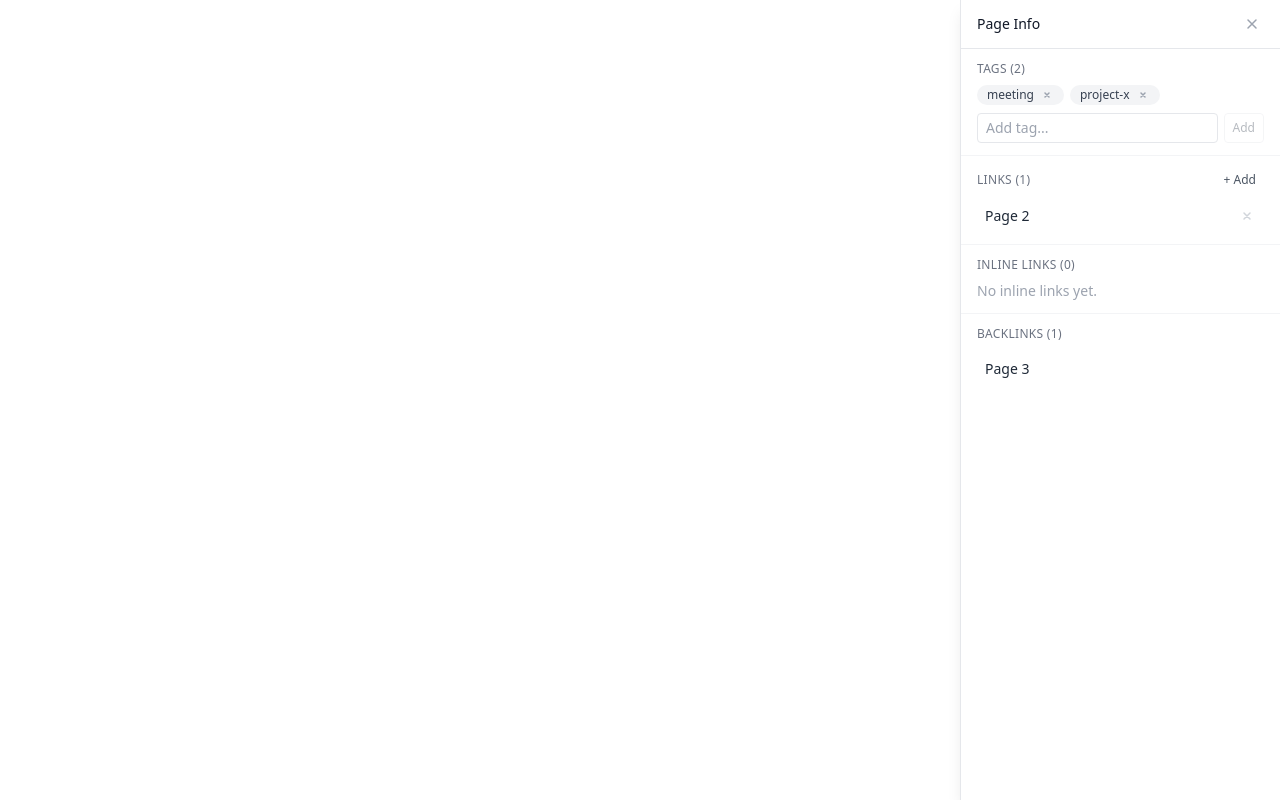
PageLinksPanel › closes add modal after saving
The width and height of the screenshot is (1280, 800).
Click the button with test id "add-link-button" at point(1240, 180), box [1216,168,1264,192]
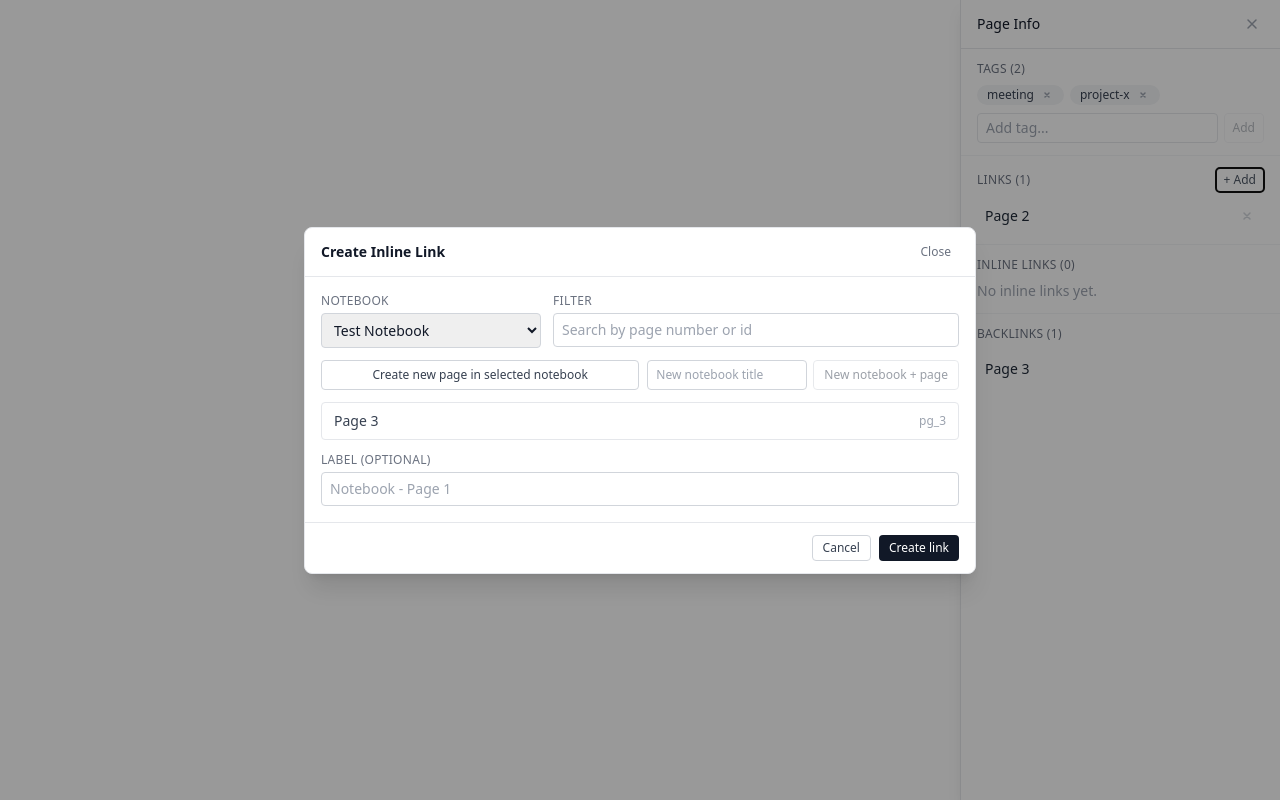
Check: the element with test id "inline-link-editor-backdrop" is shown
Click the button with test id "inline-link-create-page" at point(480, 374), box [321,360,639,390]
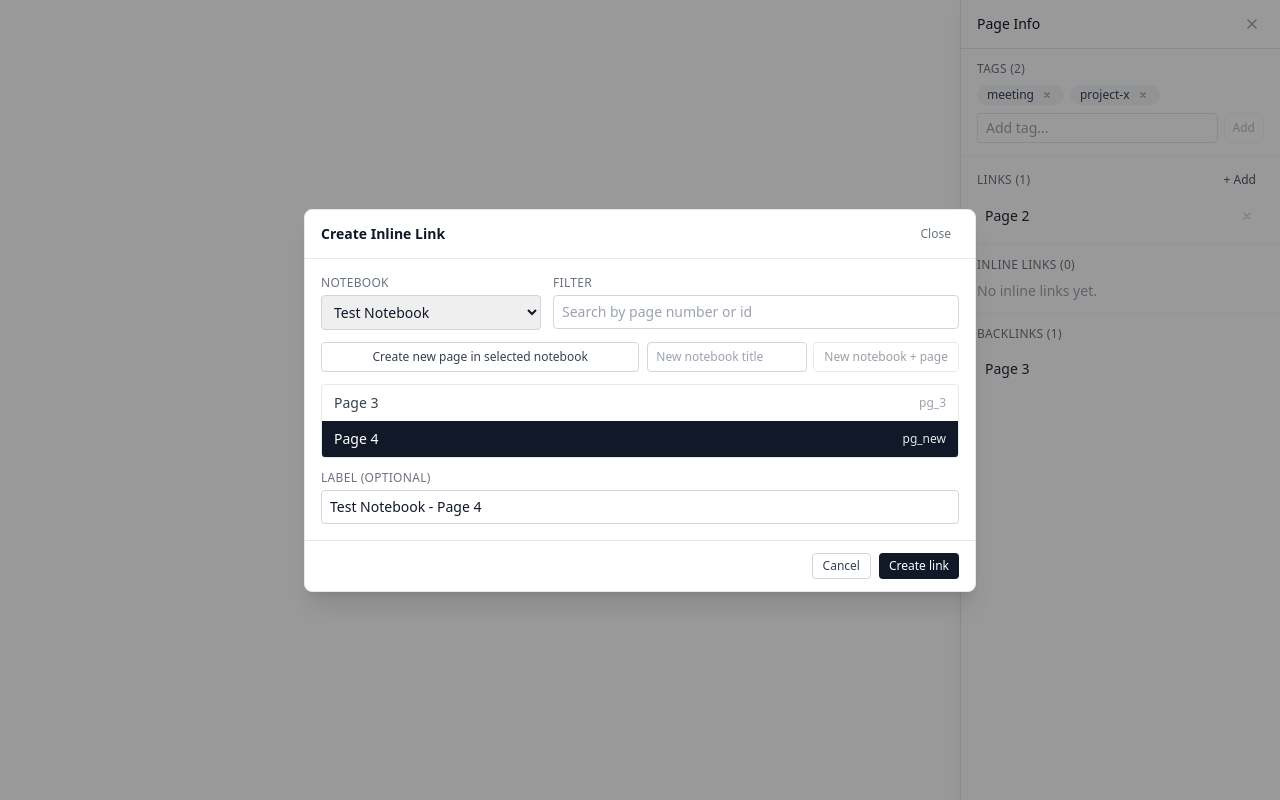
Click the button with test id "inline-link-save" at point(919, 566), box [879,552,959,578]
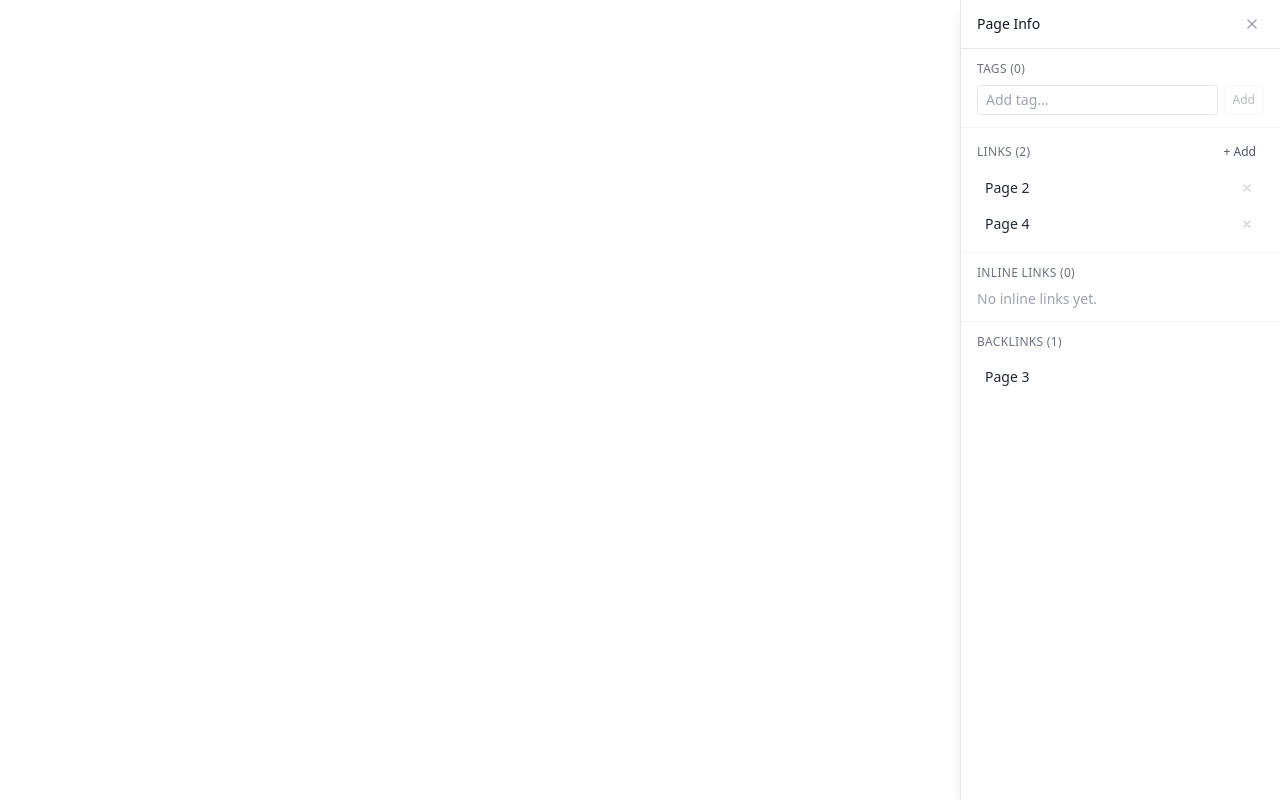
Check: the element with test id "inline-link-editor-backdrop" is gone
